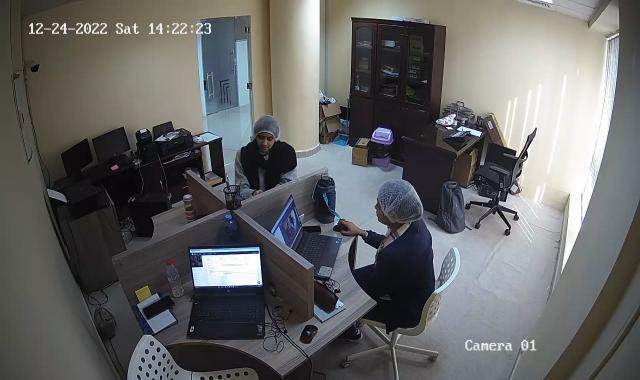hairnet: (373, 179, 423, 233), (252, 116, 282, 148)
